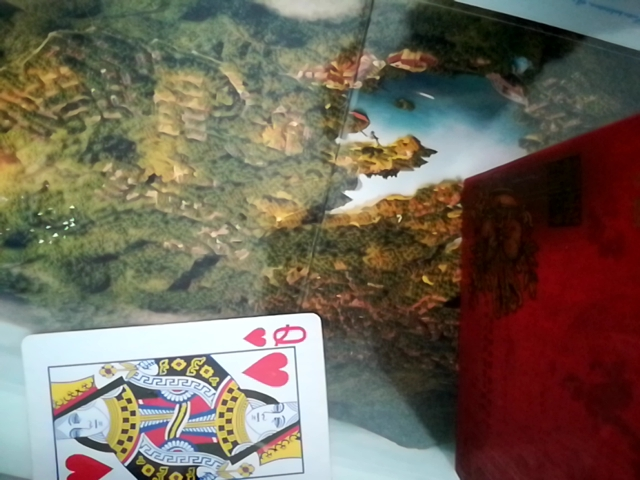hx q: (13, 309, 333, 480)
